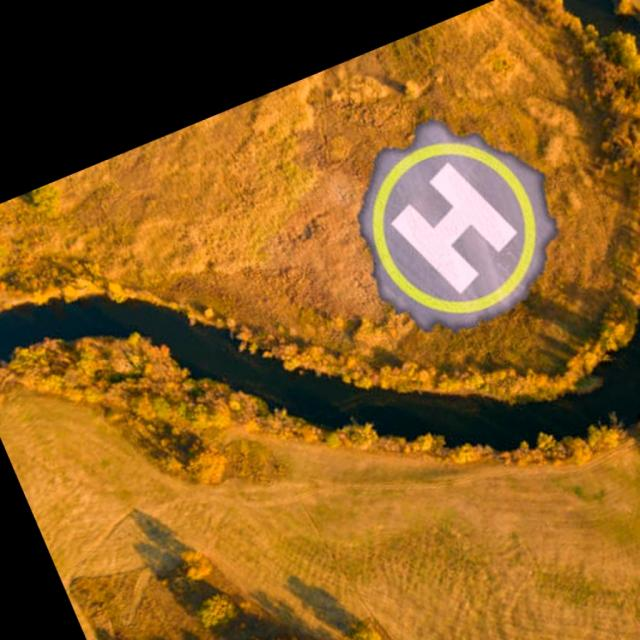helipad: (370, 137, 538, 319)
